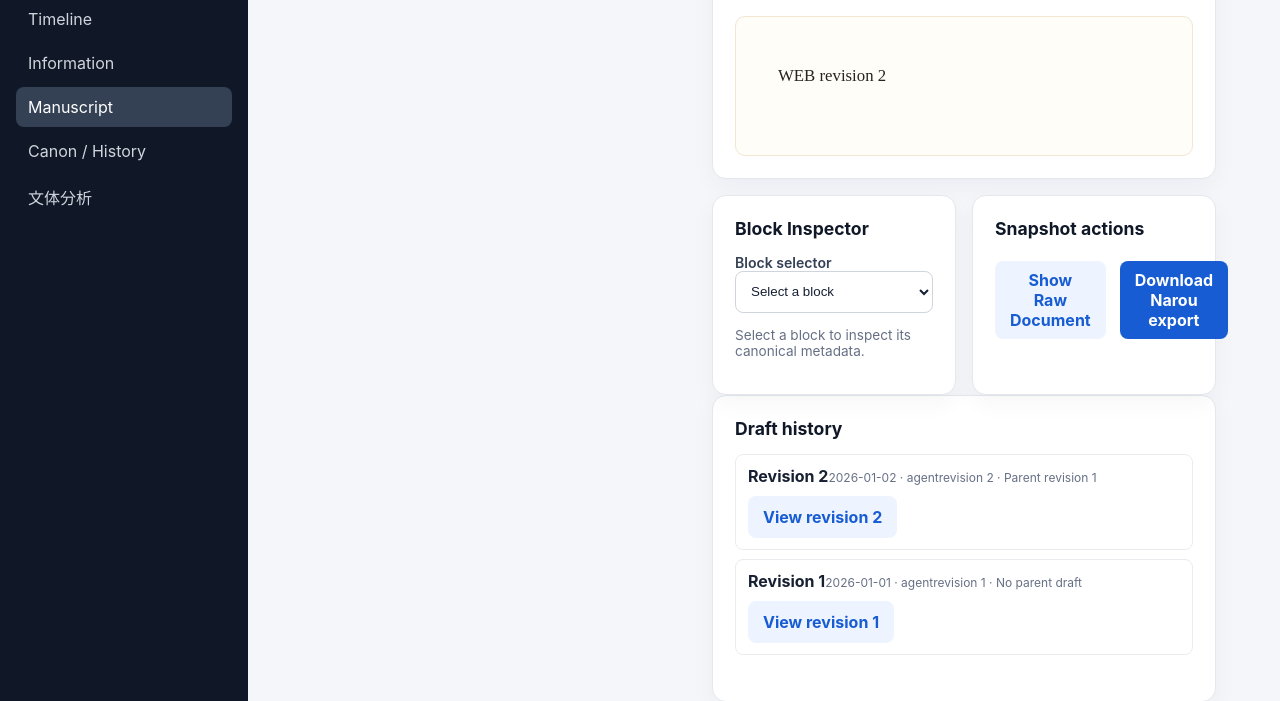
Test case: Phase E manuscript read flows › switches historical snapshots through Document then explicit WEB and can view latest
(page scrolled)
Step 1. Click the button "View revision 1" → click(821, 622), box x1=748 y1=601 x2=894 y2=643
(page scrolled)
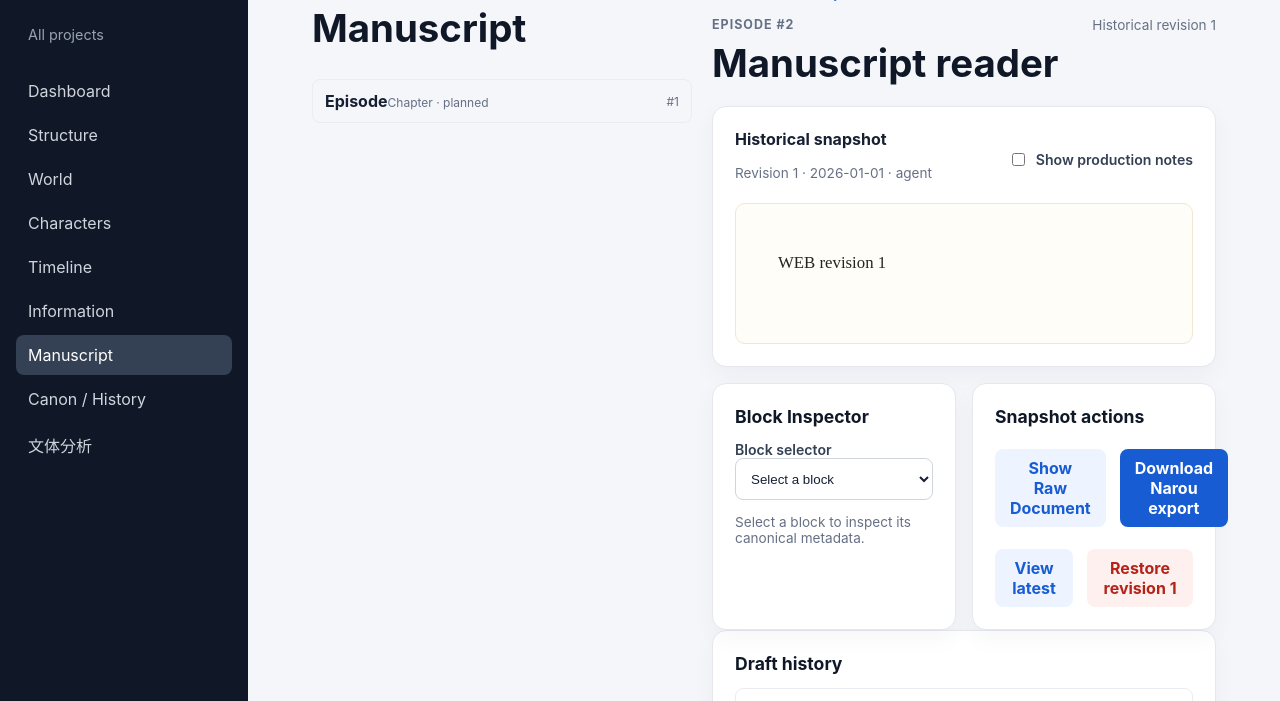
Expected: the text "Historical revision 1" is shown, x1=1092 y1=17 x2=1216 y2=33
Expected: the text "WEB revision 1" is shown, x1=778 y1=253 x2=886 y2=272
Step 2. Click the button "View latest" → click(1034, 578), box x1=995 y1=549 x2=1073 y2=607
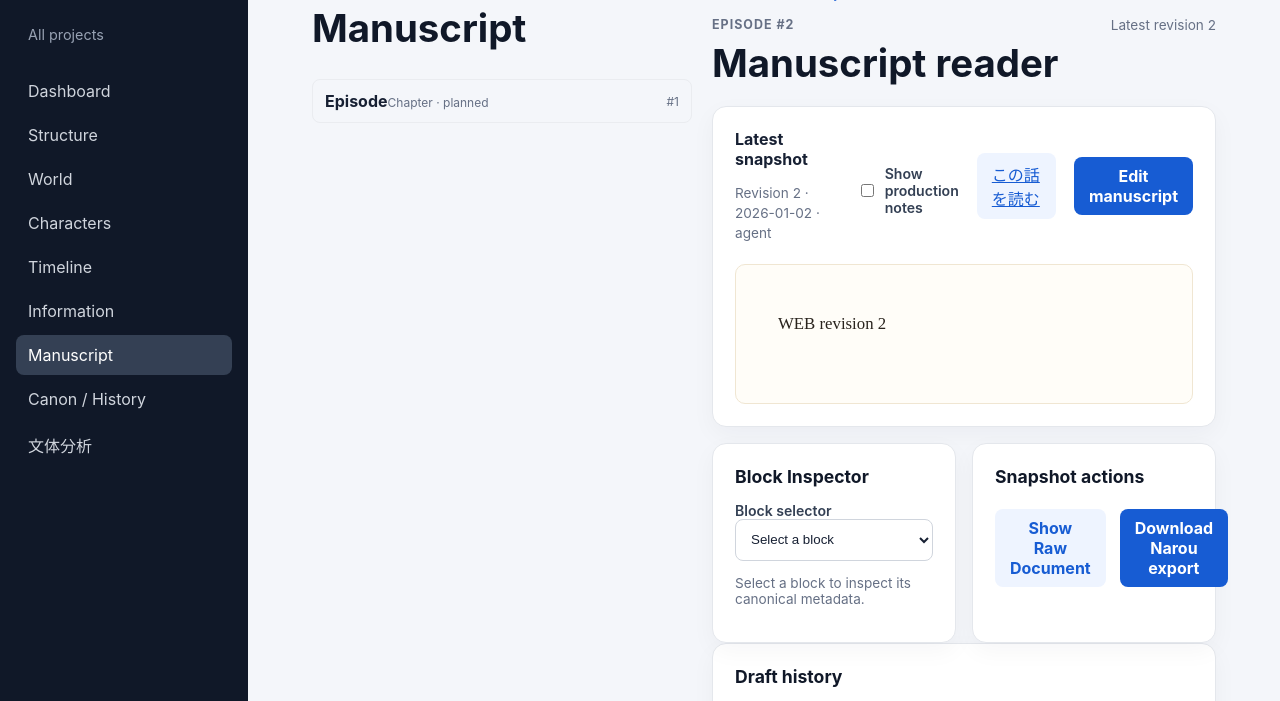
Expected: the text "Latest revision 2" is shown, x1=1111 y1=17 x2=1216 y2=33
Expected: the text "WEB revision 2" is shown, x1=778 y1=314 x2=886 y2=333
